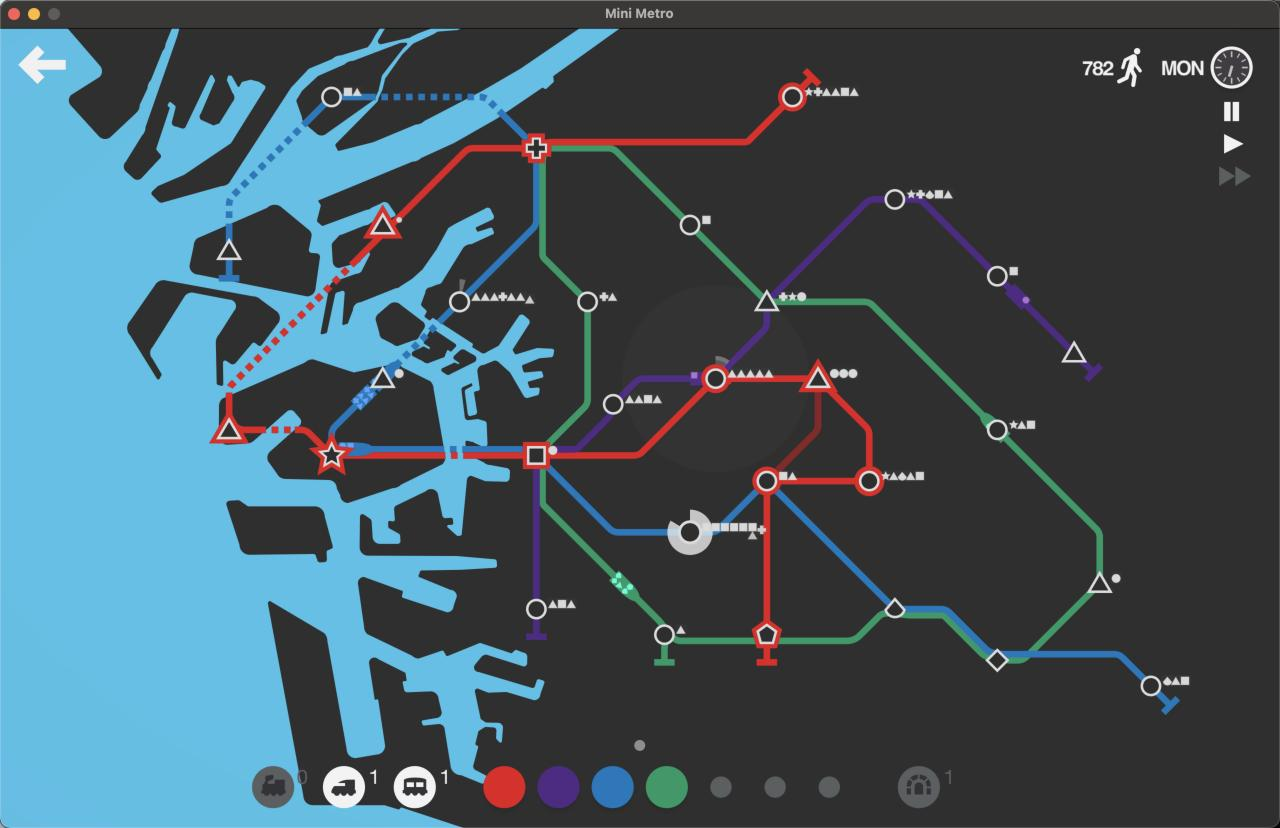CIRCLE: (855, 466, 884, 497), (753, 467, 781, 495), (779, 83, 806, 110), (702, 365, 729, 392), (679, 520, 702, 544), (986, 265, 1009, 288), (986, 419, 1009, 442), (448, 290, 471, 313), (525, 598, 548, 621), (679, 214, 702, 236), (653, 624, 676, 646), (602, 393, 624, 415), (884, 189, 906, 211), (577, 291, 599, 313), (1140, 675, 1161, 697), (320, 86, 342, 107)
CROSS: (524, 134, 549, 162)
GEM: (752, 621, 781, 648), (985, 648, 1009, 672)
SQUARE: (523, 442, 552, 468)
STAR: (309, 437, 350, 475)
TRIANGLE: (363, 204, 403, 243), (802, 360, 834, 391), (214, 416, 245, 443), (369, 364, 397, 389), (754, 288, 780, 313), (1060, 340, 1087, 364), (216, 238, 242, 262), (1086, 572, 1113, 595), (1224, 133, 1244, 154)
WEDGE: (884, 597, 906, 619)
